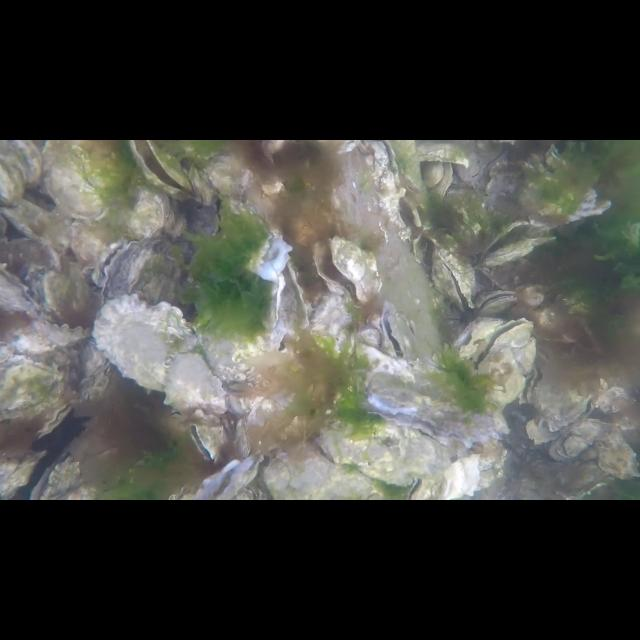Oyster-Closed: (90, 294, 226, 412), (316, 418, 448, 488), (42, 140, 128, 222), (245, 346, 302, 426), (0, 354, 66, 422), (1, 198, 73, 252), (39, 269, 95, 321), (0, 140, 42, 204), (310, 292, 352, 356), (480, 236, 556, 270), (124, 192, 166, 240), (390, 140, 424, 190), (38, 318, 92, 346), (357, 326, 381, 350)
Oyster-Open: (360, 363, 498, 449), (206, 154, 292, 282), (310, 236, 382, 310), (366, 140, 422, 228), (30, 440, 110, 500), (525, 366, 593, 432), (127, 140, 193, 196), (467, 318, 533, 374), (193, 450, 264, 500), (430, 251, 478, 313), (272, 258, 306, 336), (448, 316, 506, 358), (91, 238, 137, 290), (376, 302, 412, 361), (0, 269, 40, 315), (34, 399, 76, 441), (186, 423, 224, 463), (474, 290, 516, 314)
